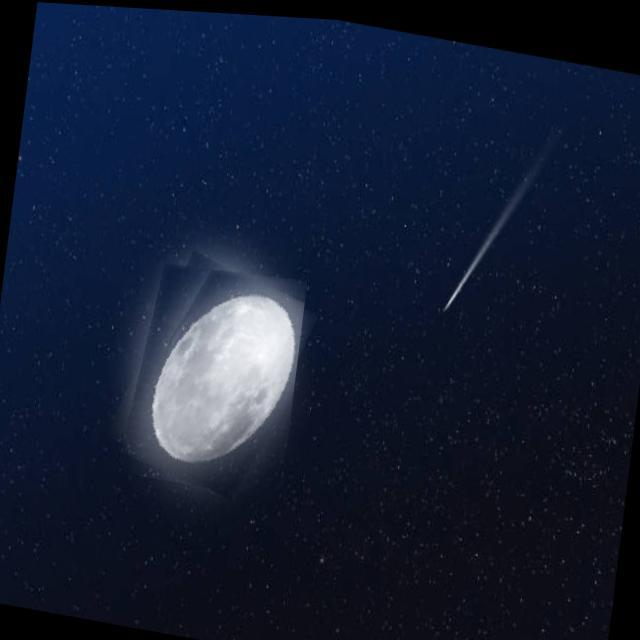moon: (115, 246, 307, 498)
